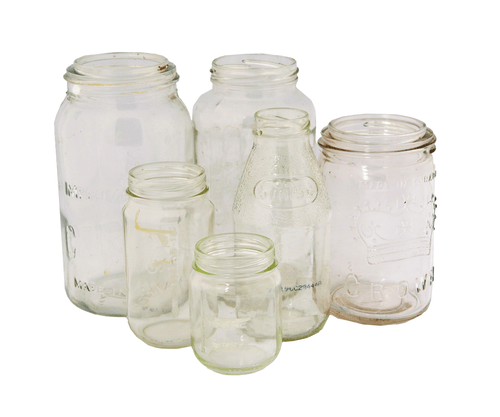Rec_Glass: (41, 49, 195, 313), (189, 45, 319, 295), (318, 105, 438, 328), (227, 104, 334, 345), (110, 157, 218, 360), (185, 232, 281, 376)
